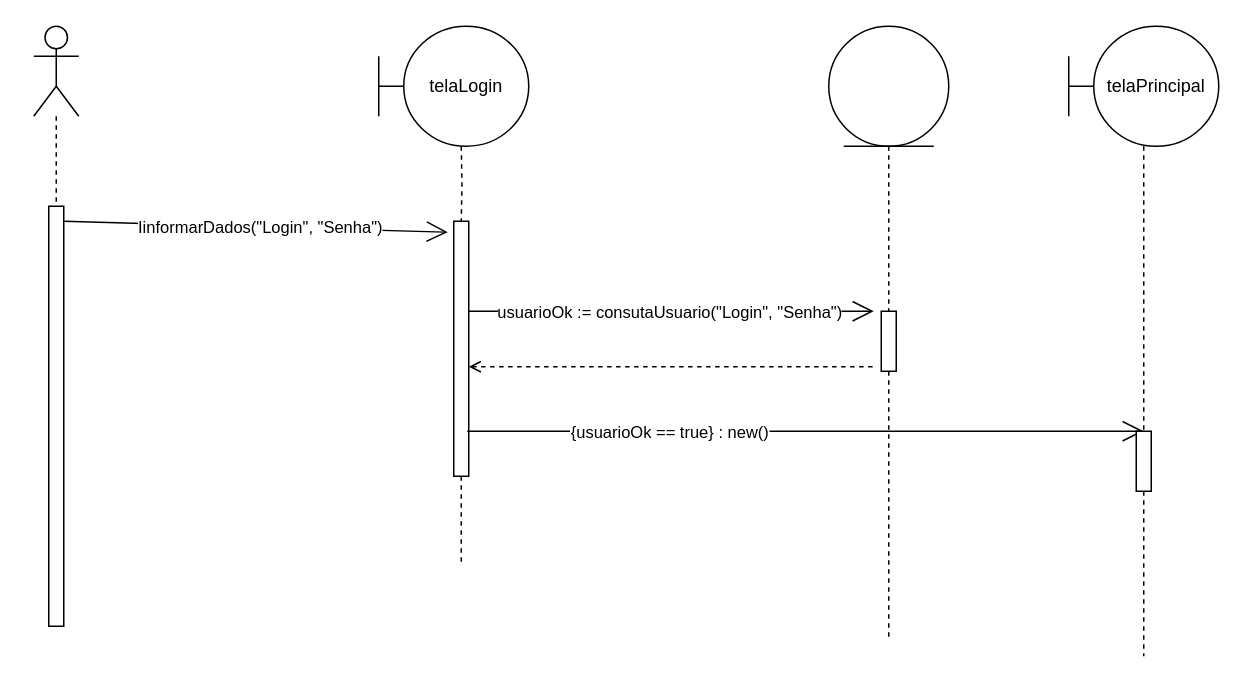
Image size: 1245x684. Some labels were removed from this diagram. Each missing label, with the centre of its shape:
"Funcionario Model" belongs at pixel 888 85.
"Usuario" belongs at pixel 55 70.
